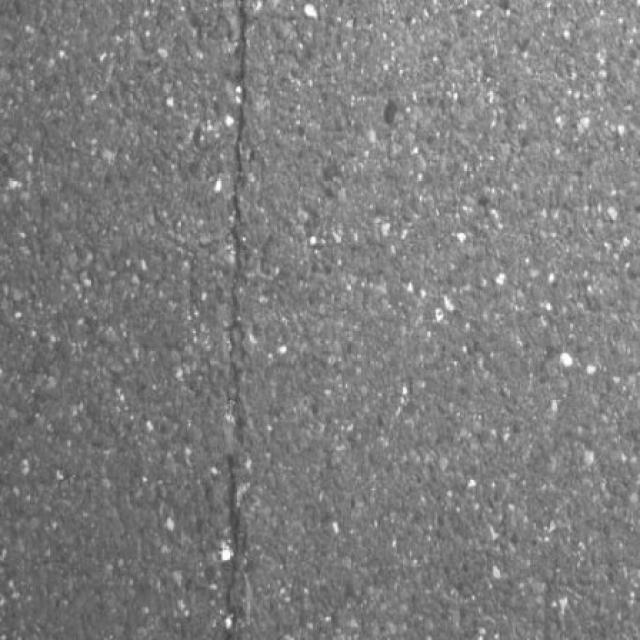Vertical Crack: (224, 1, 250, 638)
